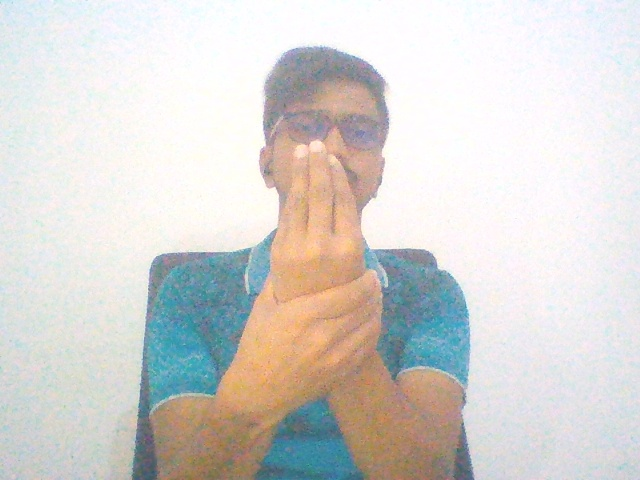tree: (215, 126, 401, 427)
